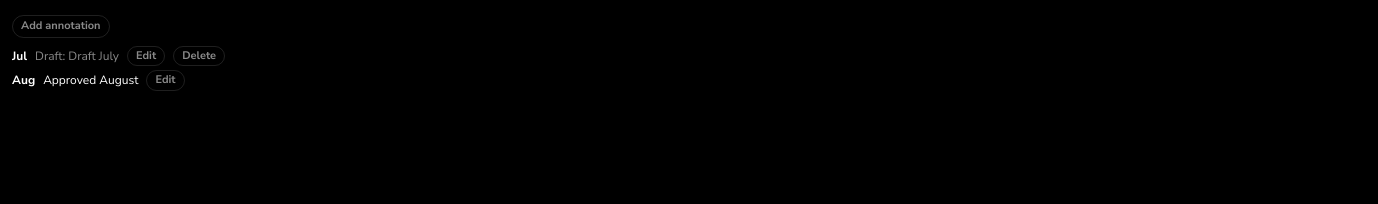
Test case: Add annotation offers every month of the block and saves a draft on the month's 1st, with no posts
Click the button "Add annotation" at x=61, y=26, box [12,15,110,38]
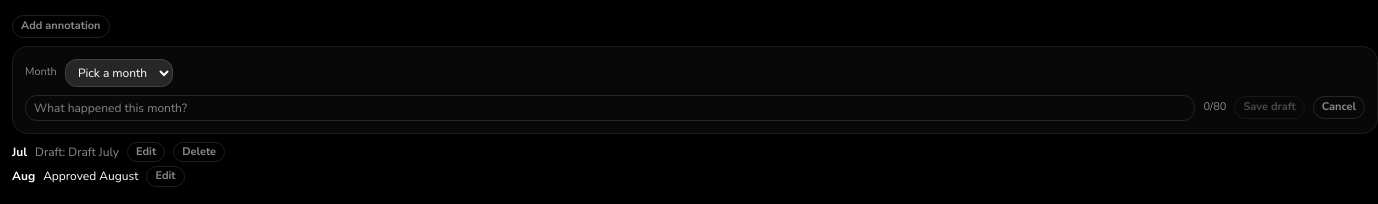
Select "Sep" in the dropdown labelled "Month" at x=119, y=72, box [65,58,173,86]
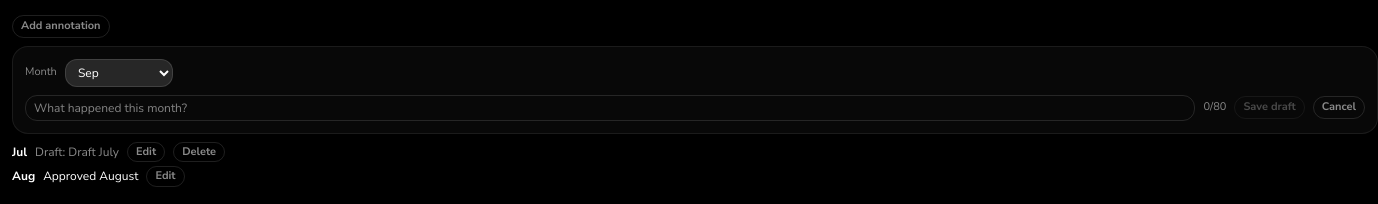
Type "  Campaign launched  " into the field named "Note text" at x=610, y=108, box [25,94,1196,120]
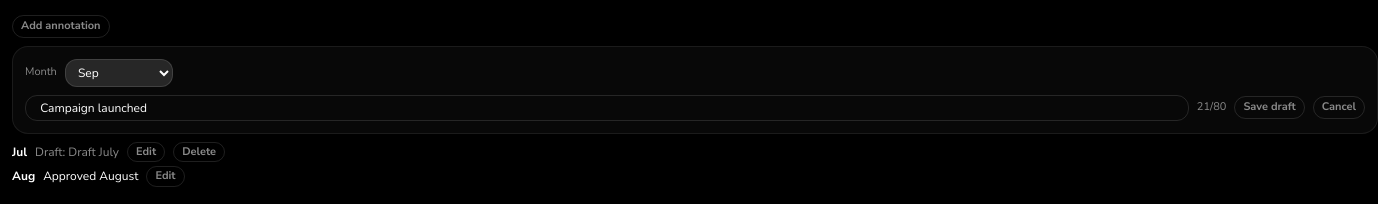
Click the button "Save draft" at x=1270, y=108, box [1234,96,1305,119]
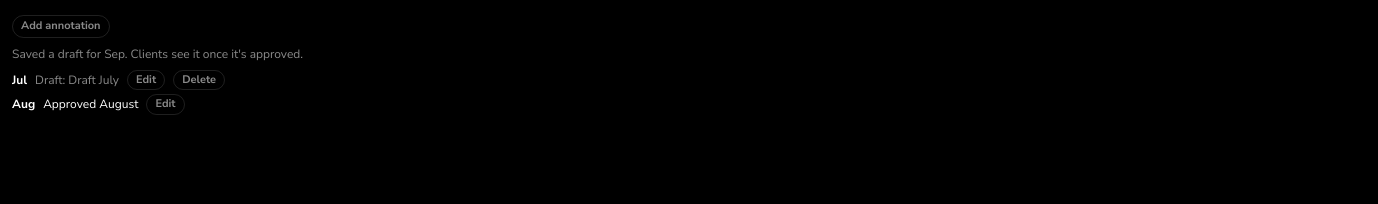
Now the message reads "Saved a draft for Sep. Clients see it once it's approved.", box [12,46,303,62]
